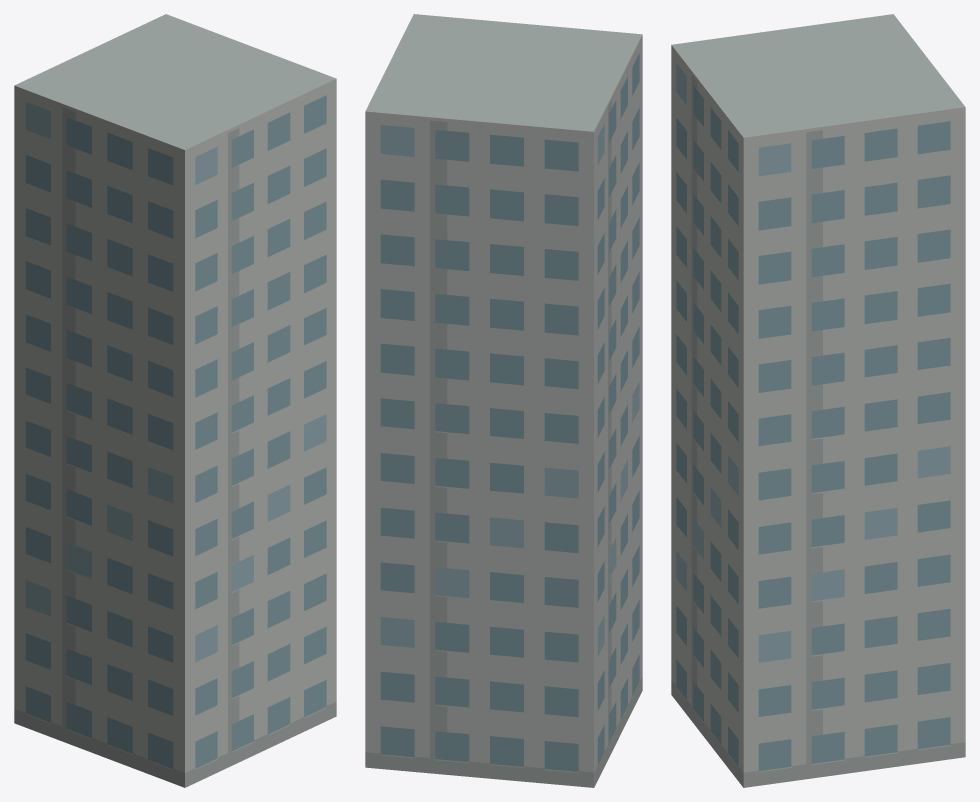
Rendered from residential-2603abd0-252c-4d2b-a29a-3d88a1fab60b.glb.
3 views of the same model, side by side, from view 1: azimuth 30°, elevation 25°; view 2: azimuth 150°, elevation 25°; view 3: azimuth 270°, elevation 25° (orthographic). The views are drawn at different scales.
Parts seen in each view (by area): view 1: residential-2603abd0-252c-4d2b-a29a-3d88a1fab60b.tmp; view 2: residential-2603abd0-252c-4d2b-a29a-3d88a1fab60b.tmp; view 3: residential-2603abd0-252c-4d2b-a29a-3d88a1fab60b.tmp.
Boxes of the visible parts, box(x1,y1,x2,y2) form: residential-2603abd0-252c-4d2b-a29a-3d88a1fab60b.tmp: box(14, 14, 336, 787); residential-2603abd0-252c-4d2b-a29a-3d88a1fab60b.tmp: box(365, 14, 642, 787); residential-2603abd0-252c-4d2b-a29a-3d88a1fab60b.tmp: box(671, 14, 965, 787).
Size of the model in its own units: 20.02 by 49 by 20.1.
